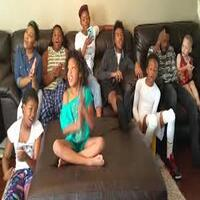person: (9, 90, 45, 139), (105, 19, 138, 66), (63, 53, 93, 103), (16, 16, 44, 64), (139, 56, 167, 94), (51, 17, 71, 69), (72, 2, 100, 33), (179, 30, 197, 73)
